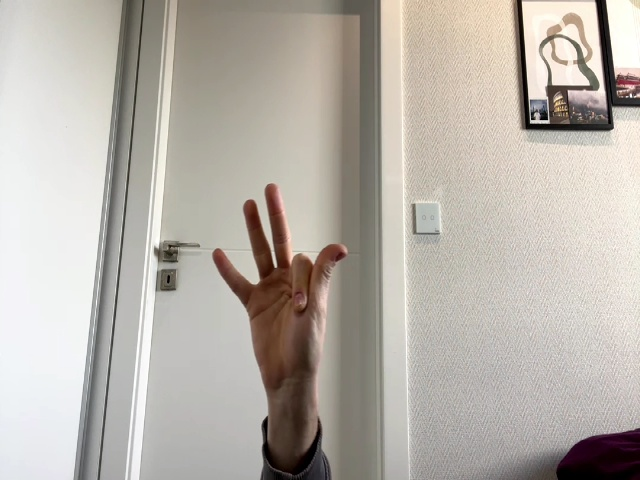F: (212, 183, 348, 380)
